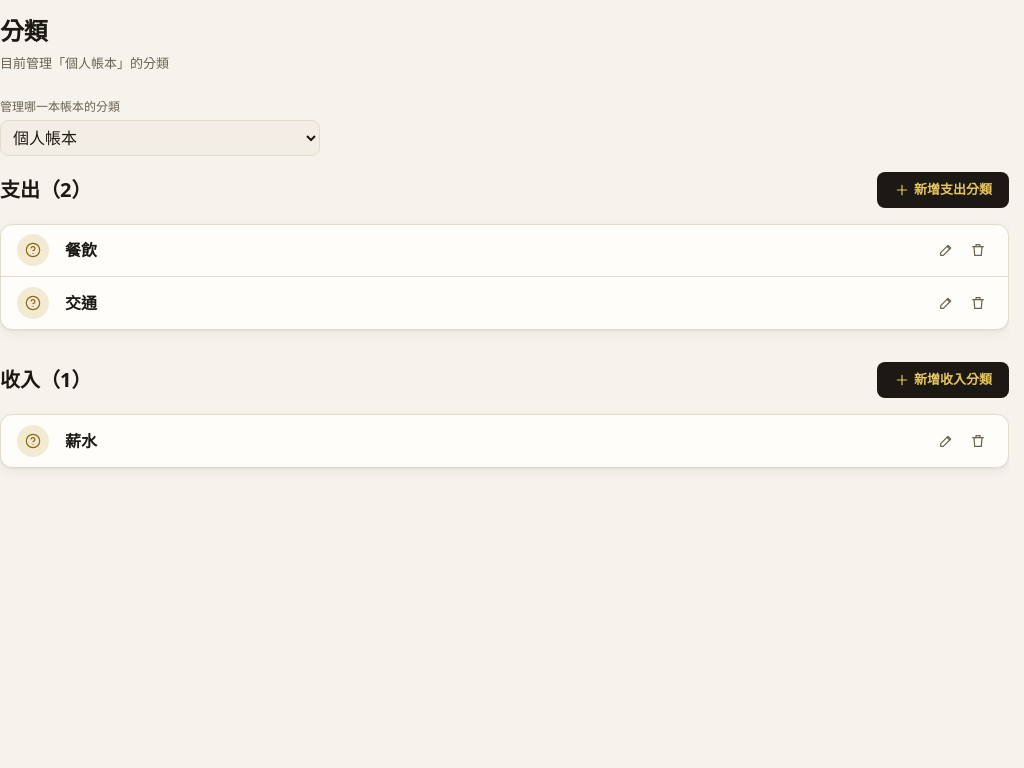
Test case: Categories page › keeps the confirm dialog open when the category is still in use
Step 1. Click the button named "刪除餐飲" → (978, 250), box [964,236,992,264]
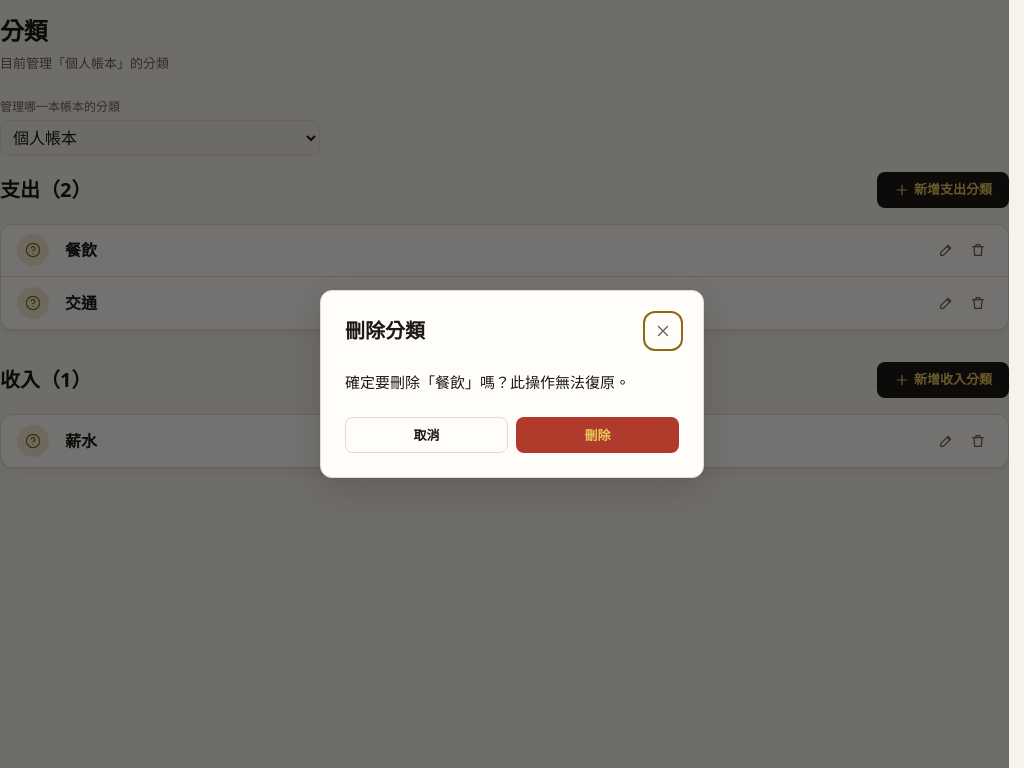
Step 2. Click the button "刪除" → (598, 435), box [516,417,679,453]
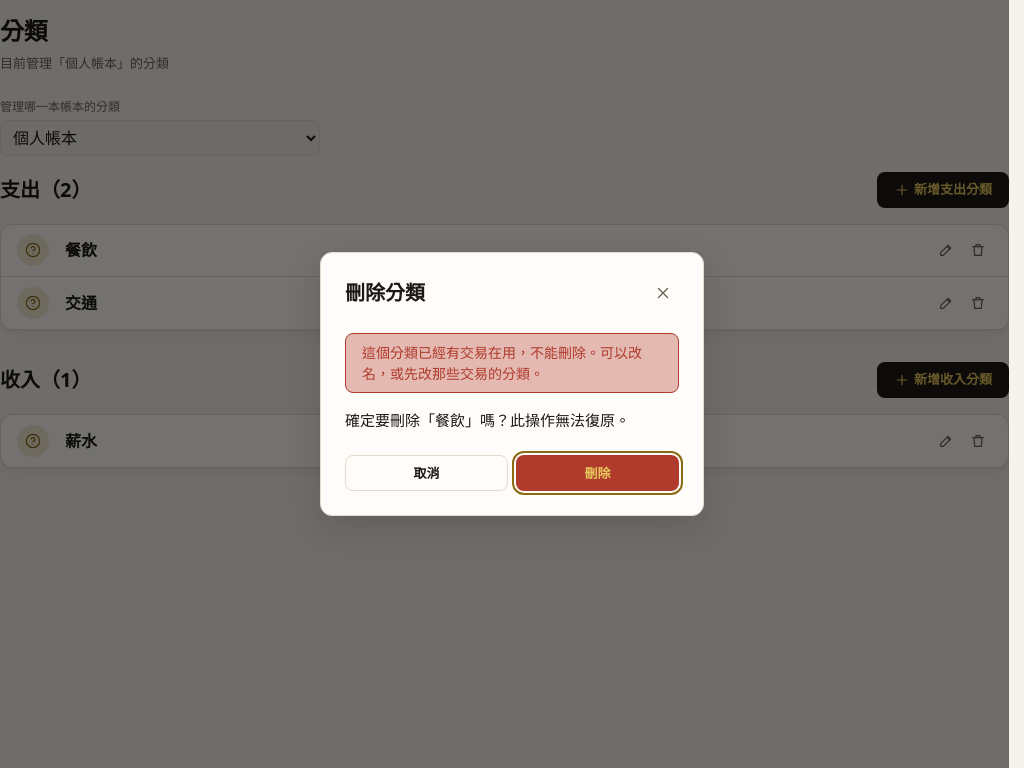
Result: the dialog "刪除分類" is shown at [320,252,704,516]
Result: the text "這個分類已經有交易在用，不能刪除。可以改名，或先改那些交易的分類。" is shown at [362,343,642,383]
